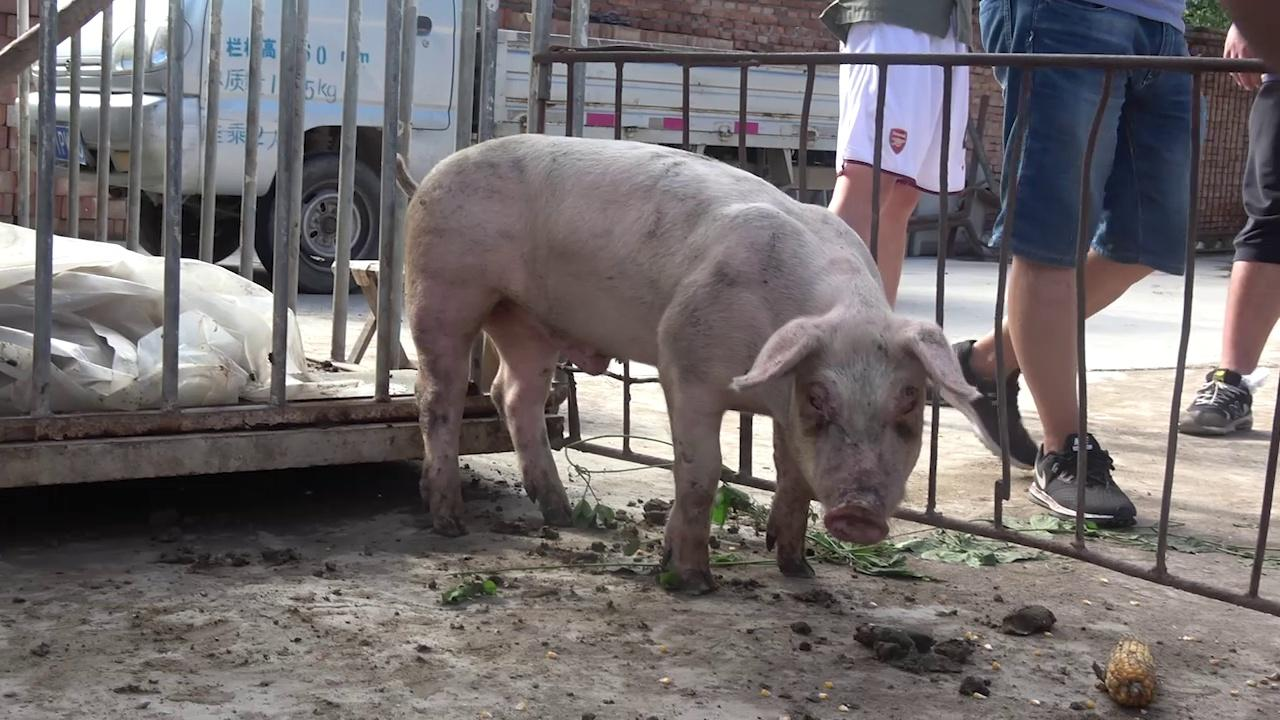Face: (729, 303, 988, 564)
